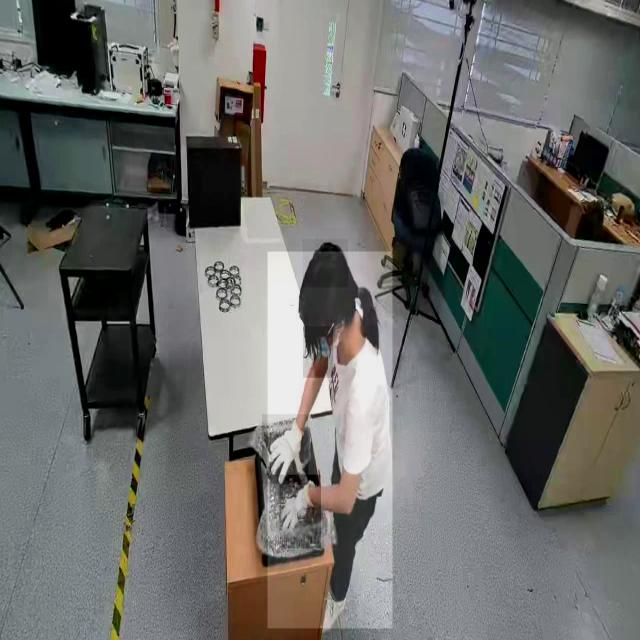face_mask: (303, 326, 333, 378)
hand_glove: (262, 414, 309, 484), (280, 475, 322, 549)
head_nohelmet: (302, 239, 348, 288)
person: (267, 252, 393, 630)
